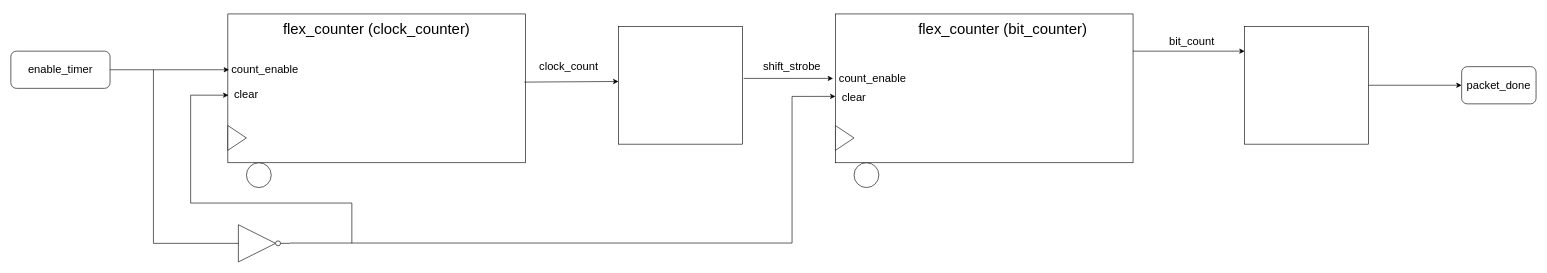
This 1547x273 diagram has some shape labels left out. Each missing label, with the centre of its shape:
"ALWAYS_COMB: bit_count == 10" belongs at [1306,85].
"ALWAYS_COMB: clock_count == 5" belongs at [680,85].
